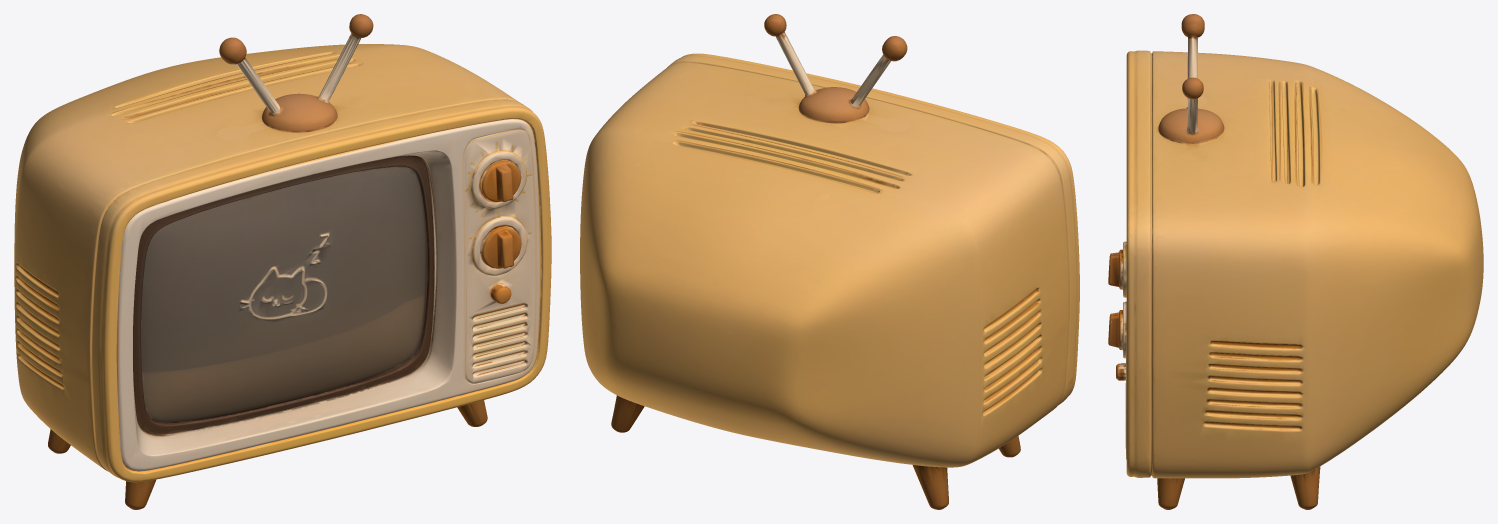
The model's file is television.glb.
The picture shows the model from 3 angles, left to right: view 1: azimuth 30°, elevation 25°; view 2: azimuth 150°, elevation 25°; view 3: azimuth 270°, elevation 25°; orthographic projection. The views are drawn at different scales.
Parts seen in each view (by area): view 1: node_0; view 2: node_0; view 3: node_0.
Boxes of the visible parts, bbox=[...] form: node_0: bbox=[14, 14, 551, 509]; node_0: bbox=[580, 14, 1079, 509]; node_0: bbox=[1108, 14, 1483, 509].
Bounding box in the file's own units: 0.8871 × 0.813 × 0.706.
Materials: 1 (1 with a texture image).
